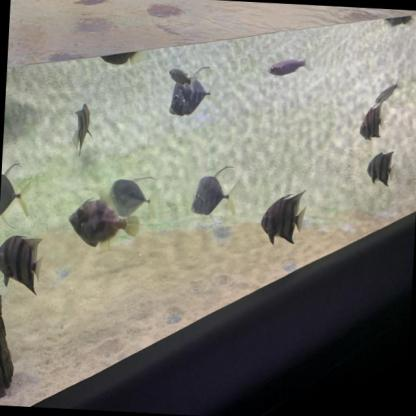fish: (66, 195, 142, 251), (189, 162, 244, 220), (259, 186, 309, 249), (0, 231, 47, 297), (168, 62, 220, 121), (0, 160, 36, 232), (107, 172, 158, 220), (69, 102, 95, 156), (266, 53, 315, 80), (365, 149, 397, 189), (359, 101, 388, 142), (100, 46, 139, 69), (375, 78, 400, 110), (167, 66, 194, 90), (385, 12, 413, 30)
